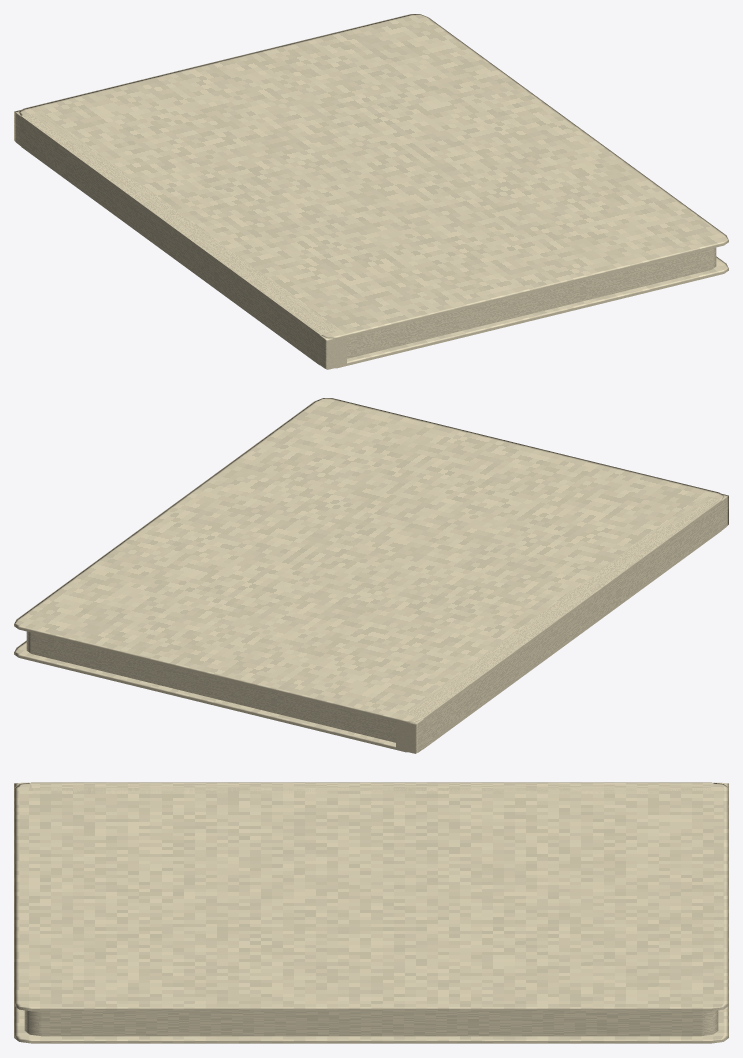
The model's file is magazine.glb.
3 views of the same model, one above another, from view 1: azimuth 30°, elevation 25°; view 2: azimuth 150°, elevation 25°; view 3: azimuth 270°, elevation 25° (orthographic). The views are drawn at different scales.
Visible parts, largest first — view 1: cover (×2), spine, pages; view 2: cover (×2), spine, pages; view 3: cover (×2), pages, spine.
Part boxes in pixels (x1,y1,x2,y2): cover (×2): (19,14,728,368); spine: (14,109,346,369); pages: (347,247,716,358); cover (×2): (14,398,723,752); spine: (396,493,728,753); pages: (26,631,395,742); cover (×2): (14,782,728,1043); pages: (24,1010,718,1036); spine: (14,782,728,793).
Size of the model in its own units: 0.21 by 0.015 by 0.28.
1 material, 1 textured.
